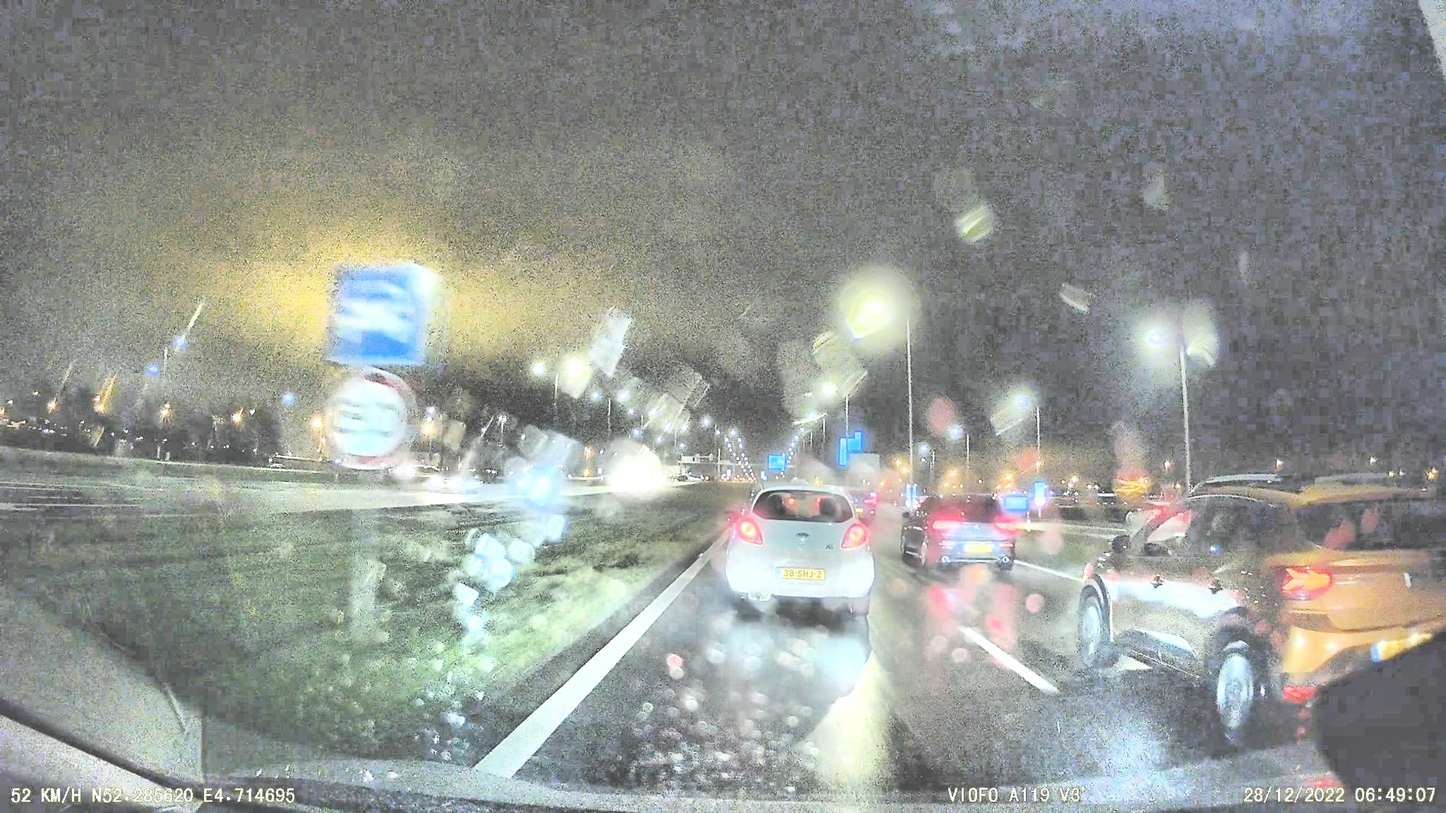Roads: (478, 541, 1113, 803)
